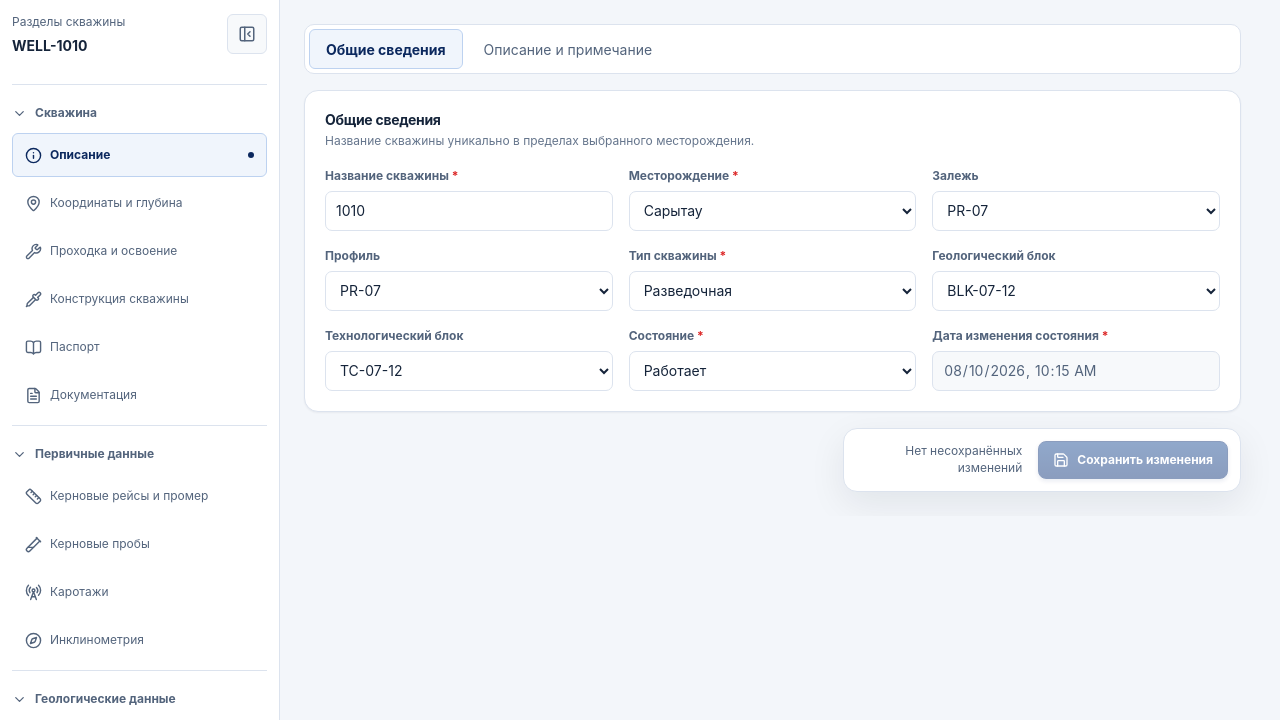
BGD object → section → workspace › keeps a legacy occurrence selected after consolidation into the deposit list
The width and height of the screenshot is (1280, 720).
Expected: the message reads "Нет несохранённых изменений", [905,443,1022,475]
Expected: the dropdown labelled "Залежь" shows "PR-07", [932,191,1220,231]
Select "Северное" in the dropdown labelled "Месторождение *": x=773, y=211 [629,191,916,231]
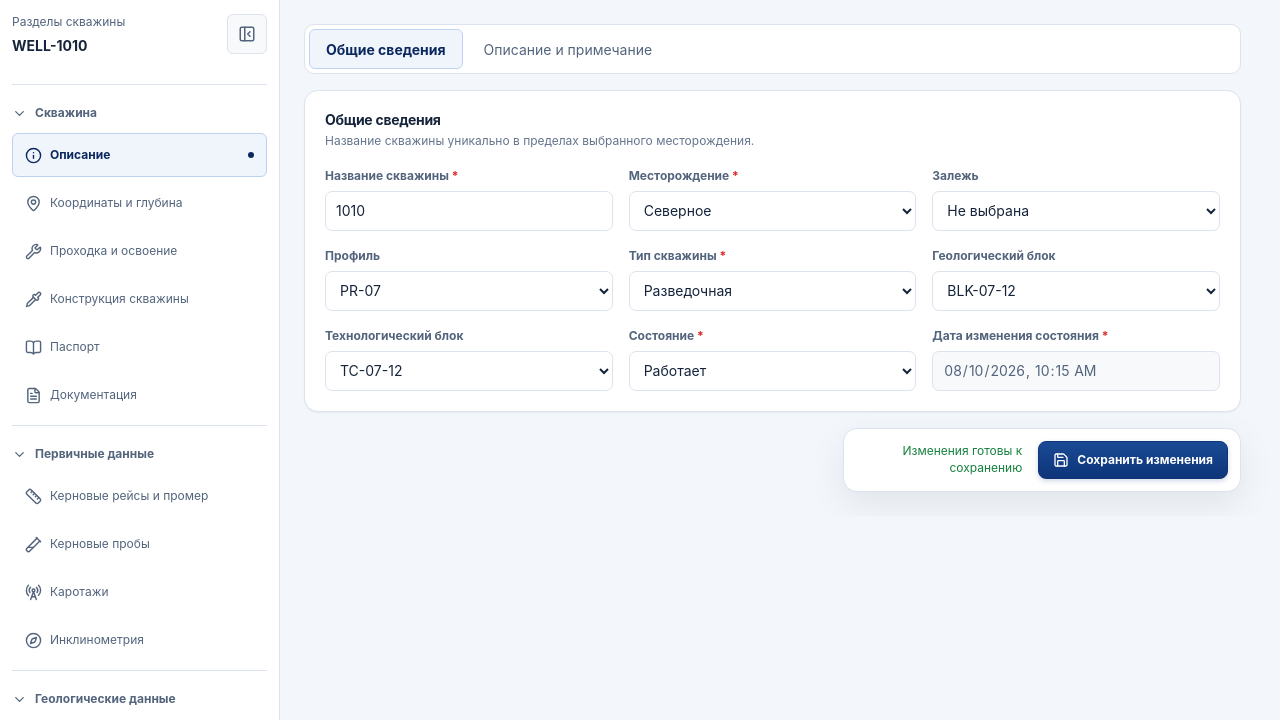
Expected: the message reads "Изменения готовы к сохранению", [902,443,1022,475]
Expected: the dropdown labelled "Залежь" shows "Не выбрана", [932,191,1220,231]
